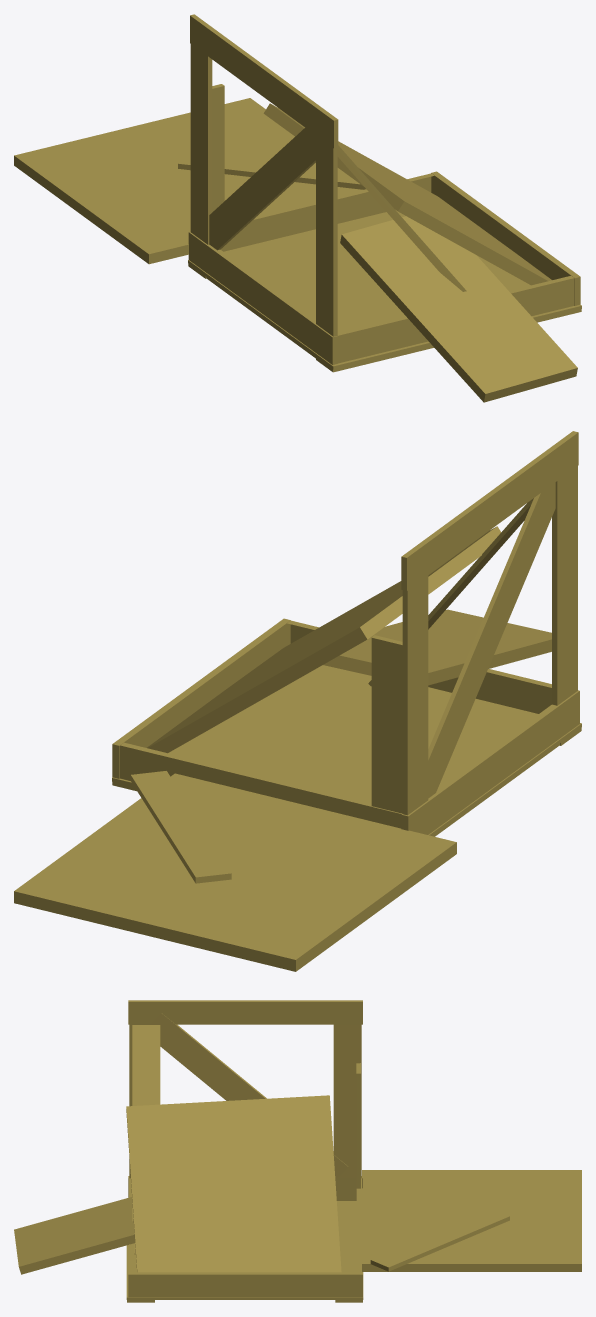
File: Crate broken.fbx
3 views of the same model, one above another, from view 1: azimuth 30°, elevation 25°; view 2: azimuth 150°, elevation 25°; view 3: azimuth 270°, elevation 25° (orthographic). The views are drawn at different scales.
Visible parts, largest first — view 1: polySurface64, polySurface63, polySurface78, polySurface61, polySurface72, polySurface70, polySurface55, polySurface67, polySurface52, polySurface68, polySurface48, polySurface71 (+4 smaller); view 2: polySurface64, polySurface78, polySurface61, polySurface55, polySurface70, polySurface72, polySurface52, polySurface63, polySurface48, polySurface68, polySurface51, polySurface71 (+3 smaller); view 3: polySurface61, polySurface64, polySurface71, polySurface70, polySurface63, polySurface52, polySurface55, polySurface53, polySurface74, polySurface78, polySurface51, polySurface72 (+1 smaller).
Part boxes in pixels (box(x1,y1,x2,y2)): polySurface64: box(14, 98, 362, 264); polySurface63: box(340, 216, 577, 402); polySurface78: box(188, 212, 581, 369); polySurface61: box(263, 103, 551, 285); polySurface72: box(188, 231, 338, 364); polySurface70: box(190, 14, 338, 148); polySurface55: box(209, 127, 315, 250); polySurface67: box(337, 276, 574, 363); polySurface52: box(190, 44, 212, 244); polySurface68: box(220, 173, 434, 253); polySurface48: box(316, 135, 337, 336); polySurface71: box(431, 171, 580, 305); polySurface64: box(14, 773, 456, 971); polySurface78: box(112, 665, 581, 836); polySurface61: box(147, 526, 501, 753); polySurface55: box(428, 482, 555, 798); polySurface70: box(401, 431, 578, 590); polySurface72: box(401, 690, 579, 834); polySurface52: box(402, 575, 428, 815); polySurface63: box(323, 609, 551, 685); polySurface48: box(552, 466, 577, 705); polySurface68: box(120, 742, 402, 828); polySurface51: box(371, 635, 402, 813); polySurface71: box(112, 618, 290, 778); polySurface61: box(126, 1095, 341, 1272); polySurface64: box(362, 1170, 581, 1271); polySurface71: box(128, 1272, 362, 1297); polySurface70: box(128, 1000, 362, 1024); polySurface63: box(14, 1197, 134, 1274); polySurface52: box(333, 1024, 361, 1178); polySurface55: box(150, 1013, 348, 1179); polySurface53: box(370, 1208, 509, 1271); polySurface74: box(132, 1025, 160, 1254); polySurface78: box(126, 1201, 363, 1299); polySurface51: box(356, 1063, 360, 1189); polySurface72: box(128, 1176, 362, 1200).
Size of the model in its own units: 1.64 by 1.37 by 3.43.
